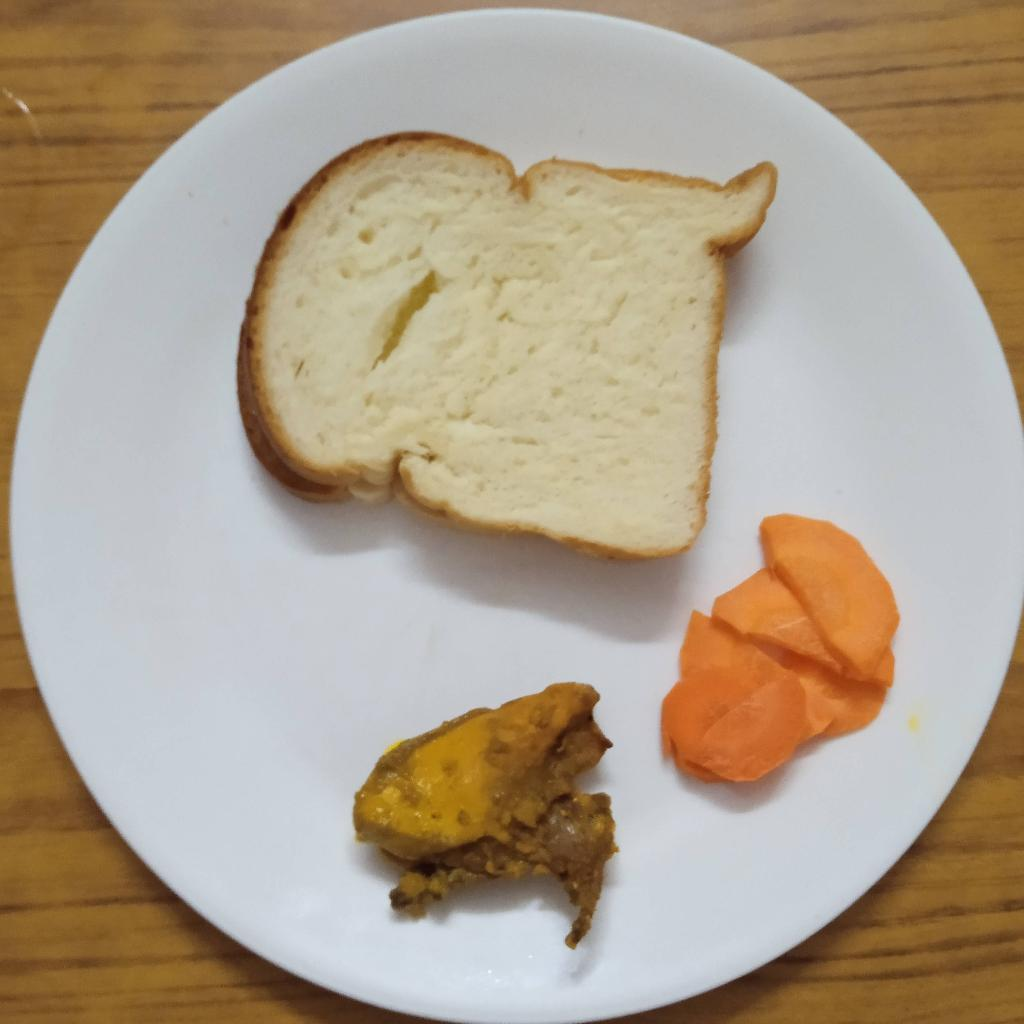bread: (238, 131, 780, 565)
carrot: (663, 515, 902, 787)
chicken: (355, 685, 619, 945)
